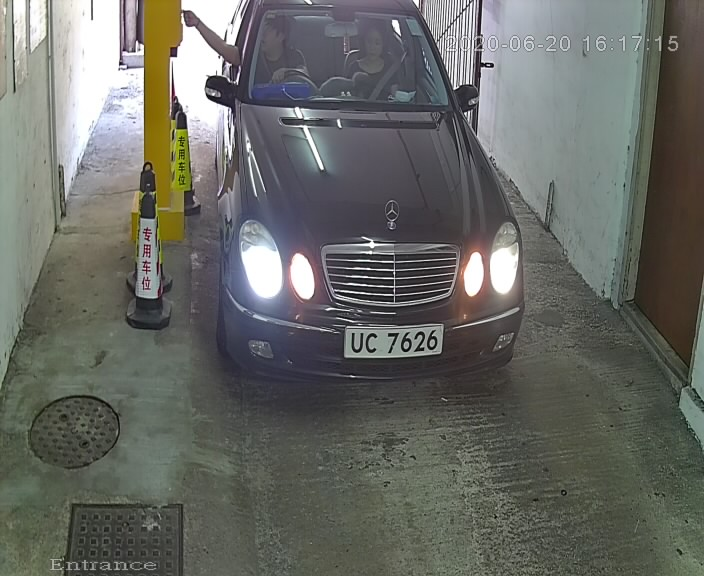privatecar: (194, 2, 542, 397)
